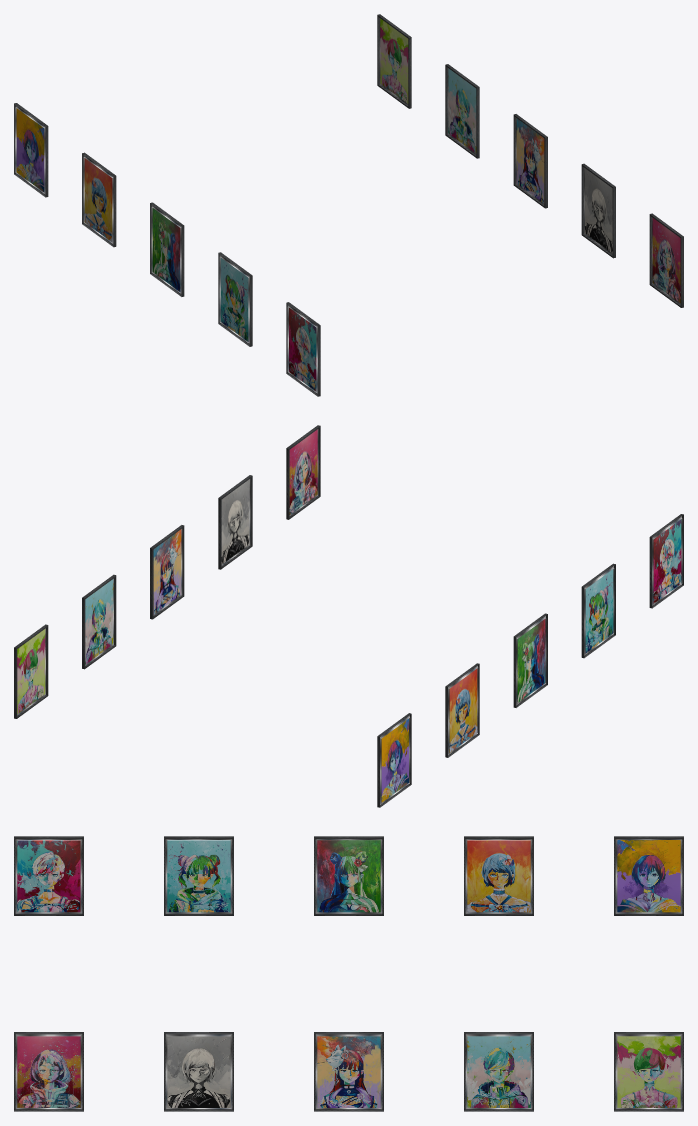
File: Painting_01.fbx
3 renders of one model, top to bottom at view 1: azimuth 30°, elevation 25°; view 2: azimuth 150°, elevation 25°; view 3: azimuth 270°, elevation 25°, orthographic. The views are drawn at different scales.
Parts seen in each view (by area): view 1: Painitng_06, Painitng_07, Painitng_02, Painitng_01, Painitng_08, Painitng_09, Painitng_04, Painitng_03, Painitng_10, Painitng_05; view 2: Painitng_10, Painitng_05, Painitng_09, Painitng_04, Painitng_07, Painitng_08, Painitng_03, Painitng_02, Painitng_06, Painitng_01; view 3: Painitng_06, Painitng_07, Painitng_08, Painitng_09, Painitng_10, Painitng_05, Painitng_04, Painitng_03, Painitng_02, Painitng_01.
Boxes of the visible parts, bbox=[...] form: Painitng_06: bbox=[377, 14, 411, 108]; Painitng_07: bbox=[445, 64, 479, 158]; Painitng_02: bbox=[218, 252, 252, 346]; Painitng_01: bbox=[286, 302, 320, 396]; Painitng_08: bbox=[513, 114, 547, 208]; Painitng_09: bbox=[581, 163, 615, 258]; Painitng_04: bbox=[82, 152, 116, 247]; Painitng_03: bbox=[150, 202, 184, 296]; Painitng_10: bbox=[649, 213, 683, 307]; Painitng_05: bbox=[14, 103, 48, 197]; Painitng_10: bbox=[286, 425, 320, 519]; Painitng_05: bbox=[377, 713, 411, 807]; Painitng_09: bbox=[218, 475, 252, 569]; Painitng_04: bbox=[445, 663, 479, 757]; Painitng_07: bbox=[82, 574, 116, 669]; Painitng_08: bbox=[150, 525, 184, 619]; Painitng_03: bbox=[513, 613, 547, 707]; Painitng_02: bbox=[581, 563, 615, 658]; Painitng_06: bbox=[14, 624, 48, 718]; Painitng_01: bbox=[649, 514, 683, 608]; Painitng_06: bbox=[614, 1032, 683, 1111]; Painitng_07: bbox=[464, 1032, 533, 1111]; Painitng_08: bbox=[314, 1032, 383, 1111]; Painitng_09: bbox=[164, 1032, 233, 1111]; Painitng_10: bbox=[14, 1032, 83, 1111]; Painitng_05: bbox=[614, 836, 683, 915]; Painitng_04: bbox=[464, 836, 533, 915]; Painitng_03: bbox=[314, 836, 383, 915]; Painitng_02: bbox=[164, 836, 233, 915]; Painitng_01: bbox=[14, 836, 83, 915].
Size of the model in its own units: 1000 by 185 by 1438.
1 material, 1 textured.
